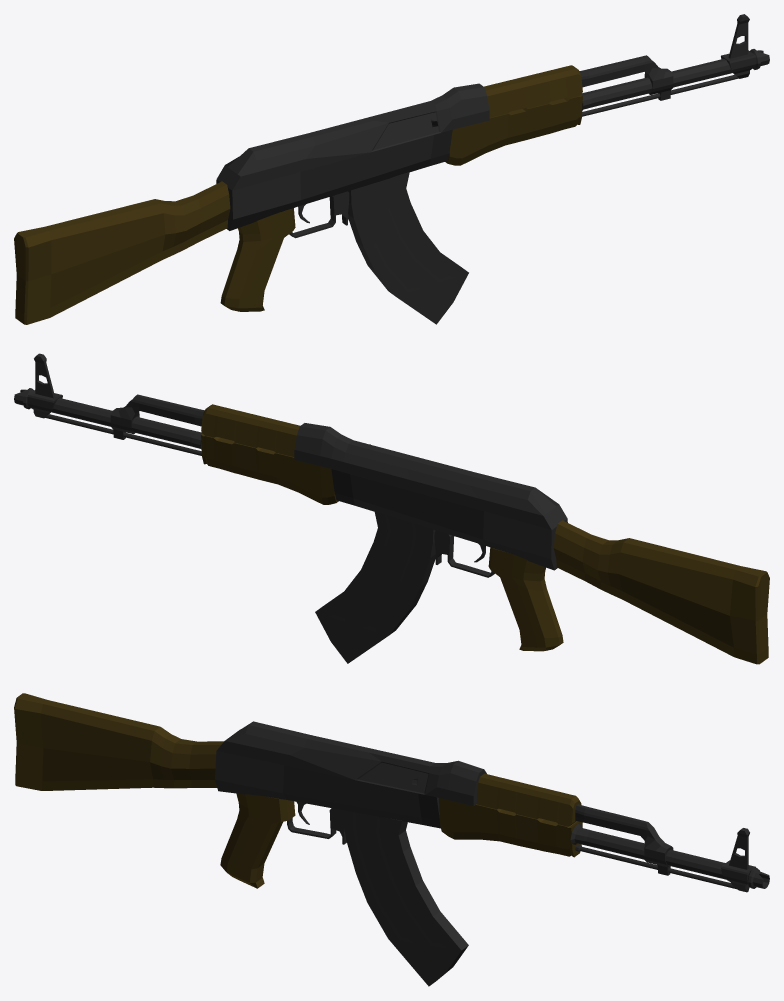
Rendered from AK47_no_arms.fbx.
The picture shows the model from 3 angles, top to bottom: view 1: azimuth 30°, elevation 25°; view 2: azimuth 150°, elevation 25°; view 3: azimuth 330°, elevation 25°; orthographic projection.
Visible parts, largest first — view 1: ak47; view 2: ak47; view 3: ak47.
Part boxes in pixels (x1=…): ak47: x1=14, y1=14, x2=769, y2=324; ak47: x1=14, y1=353, x2=769, y2=664; ak47: x1=14, y1=693, x2=769, y2=986.
Bounding box in the file's own units: 88.53 × 26.1 × 4.33.
